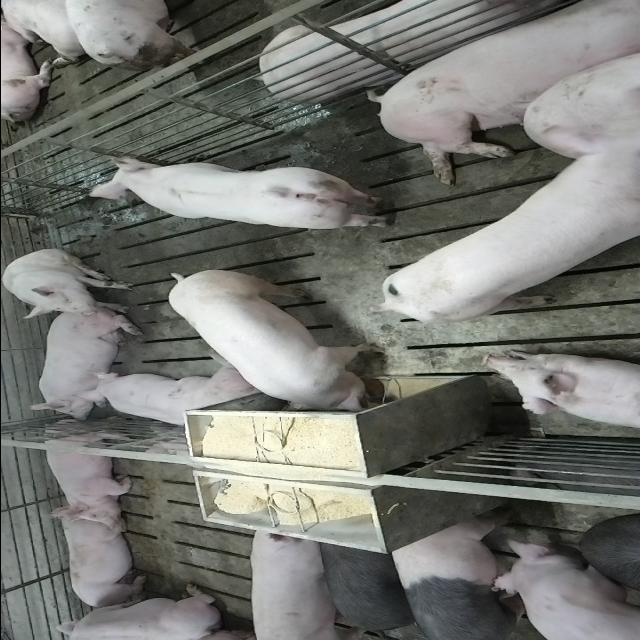Feeding: (166, 272, 390, 420)
Lateral_lying: (362, 4, 634, 188), (256, 0, 615, 102)
Sitting: (2, 249, 136, 319)
Standing: (371, 148, 635, 329), (82, 152, 398, 229), (384, 516, 568, 638), (485, 534, 639, 637), (245, 522, 348, 638), (314, 534, 422, 638)
Sternal_lying: (482, 350, 640, 433), (26, 314, 136, 424), (82, 366, 264, 430), (42, 584, 234, 638), (37, 426, 135, 526), (53, 510, 148, 610)
